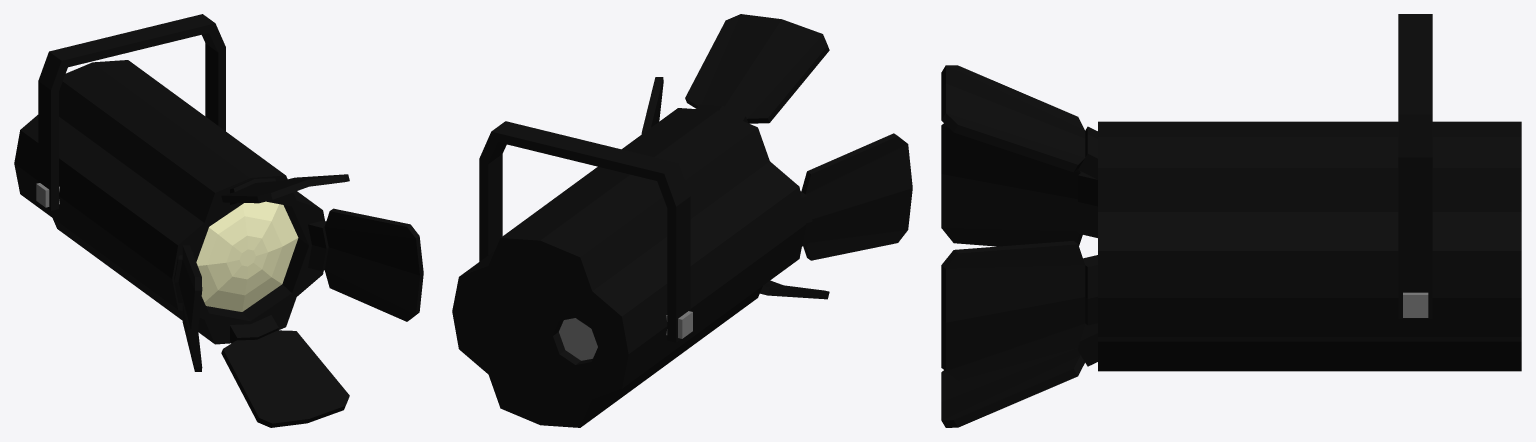
File: Int_ProjectorLight01_2.fbx
3 views of the same model, side by side, from view 1: azimuth 30°, elevation 25°; view 2: azimuth 150°, elevation 25°; view 3: azimuth 270°, elevation 25° (orthographic). The views are drawn at different scales.
Visible parts, largest first — view 1: Int_ProjectorLight01_2; view 2: Int_ProjectorLight01_2; view 3: Int_ProjectorLight01_2.
Part boxes in pixels (x1=…): Int_ProjectorLight01_2: x1=14, y1=14, x2=423, y2=427; Int_ProjectorLight01_2: x1=452, y1=14, x2=912, y2=427; Int_ProjectorLight01_2: x1=941, y1=14, x2=1521, y2=427.
Size of what is drawn, in the model's own units: 51.75 by 83.37 by 54.76.
